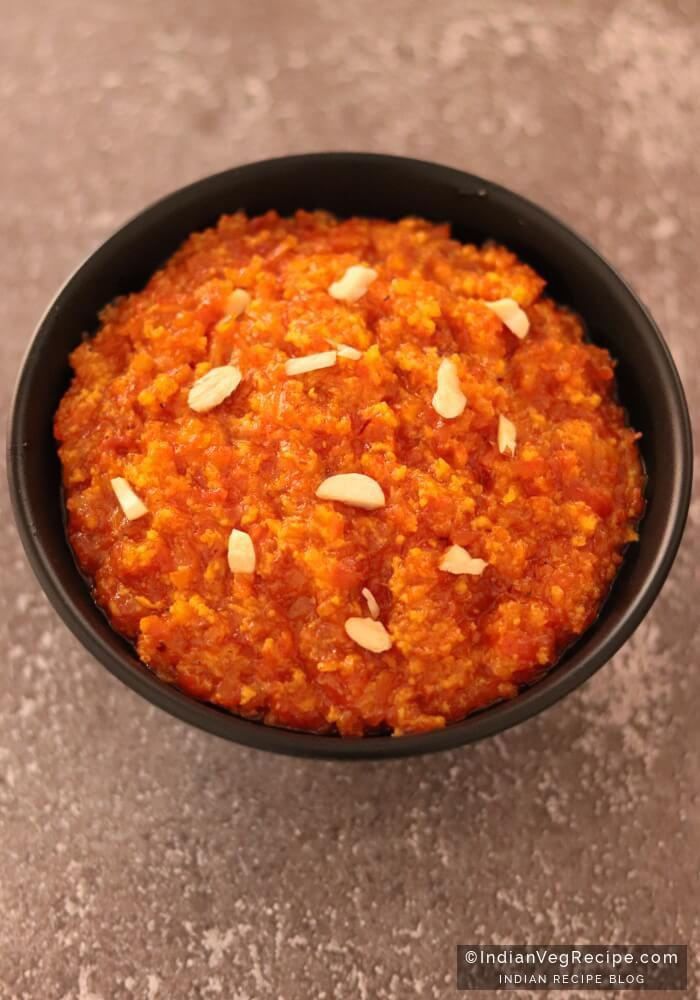Naan: (21, 138, 697, 763)
